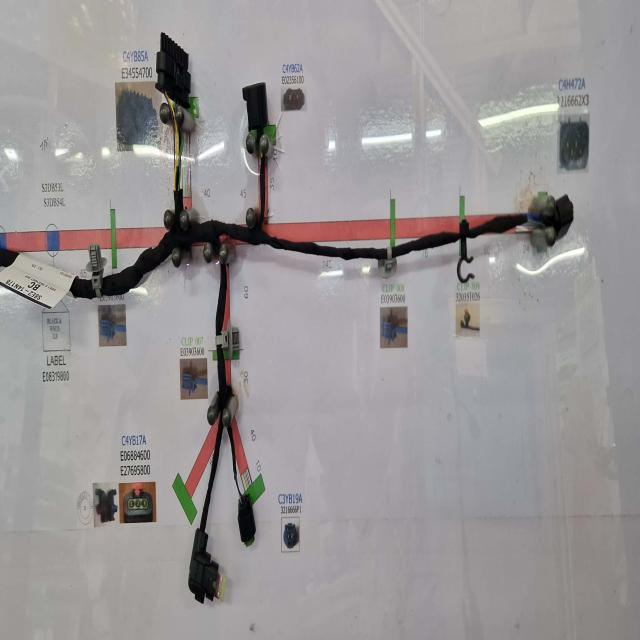Clip: (226, 325, 250, 366), (89, 241, 106, 295), (457, 234, 475, 283), (380, 242, 400, 278), (472, 201, 481, 236)
Connector: (155, 29, 190, 105), (187, 530, 219, 606), (243, 84, 270, 135), (237, 492, 255, 546), (555, 193, 575, 240)
Gape: (171, 90, 187, 181), (532, 207, 562, 231), (232, 475, 250, 497), (258, 128, 268, 167)
Info: (0, 255, 79, 309)
MHEV_N11_Cable: (71, 186, 245, 543), (242, 157, 534, 264)
